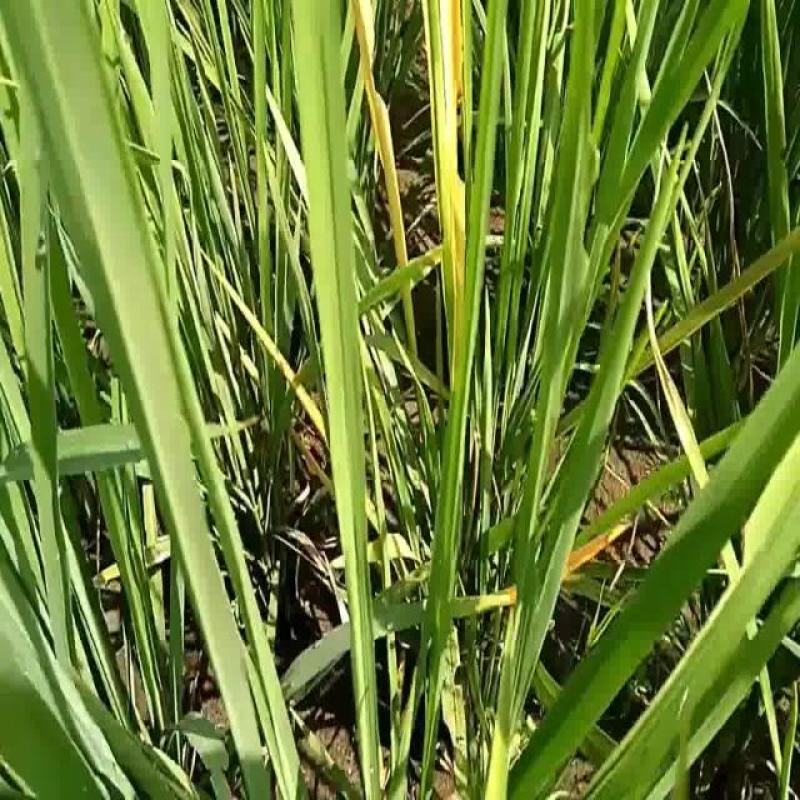Rice Tungro: (350, 1, 412, 296), (440, 3, 472, 372), (421, 4, 451, 265)
